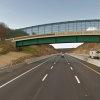Bridge: (13, 19, 99, 54)
